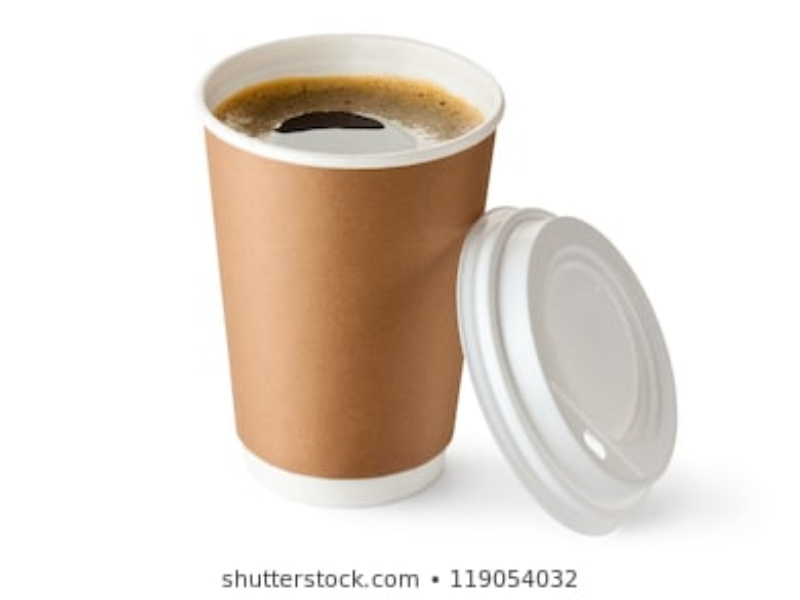coffee-lid: (459, 202, 678, 537)
plastic-cup: (194, 25, 503, 509)
